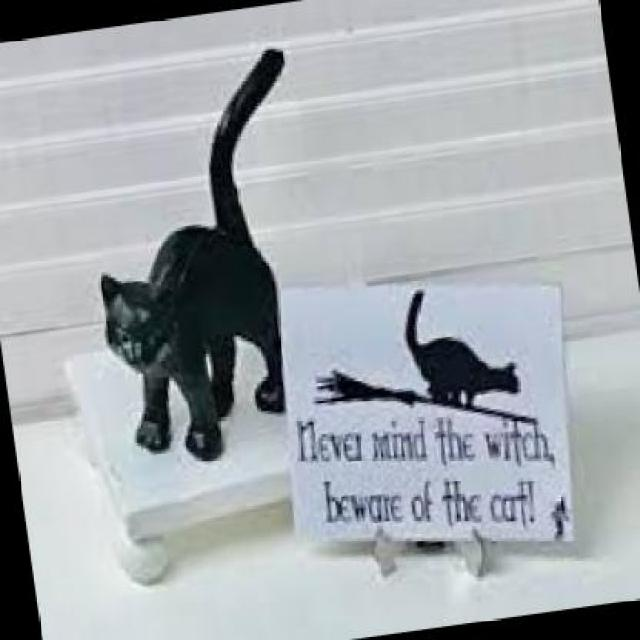animals: (50, 27, 338, 464), (382, 280, 546, 422)
